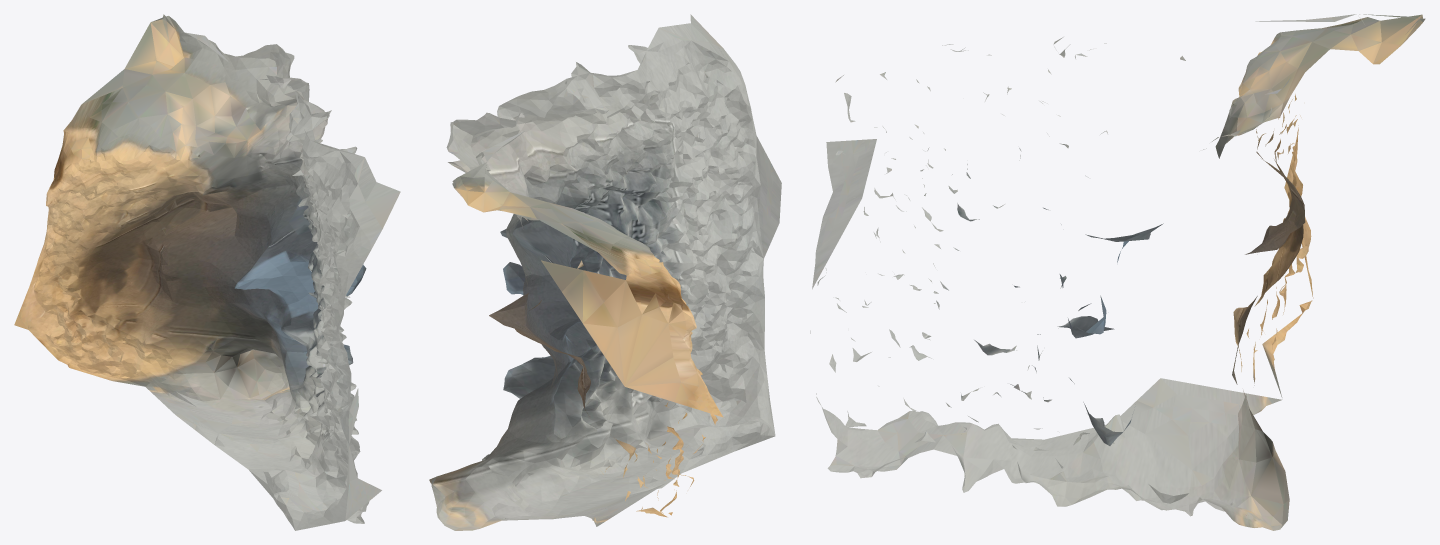
3 views of the same model, side by side, from view 1: azimuth 30°, elevation 25°; view 2: azimuth 150°, elevation 25°; view 3: azimuth 270°, elevation 25° (orthographic). The views are drawn at different scales.
Size of the model in its own units: 61.74 by 72.8 by 84.87.
1 material, 1 textured.
